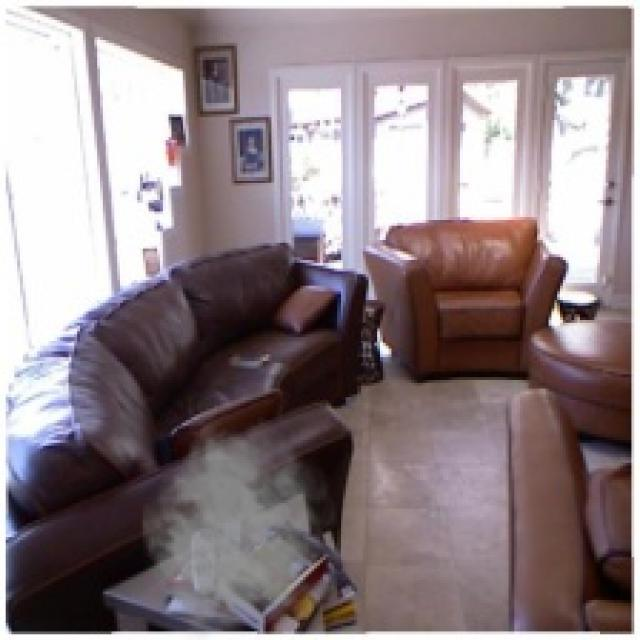smoke: (140, 412, 343, 637)
